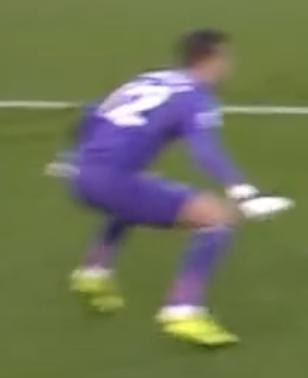goalkeeper: (29, 9, 306, 366)
